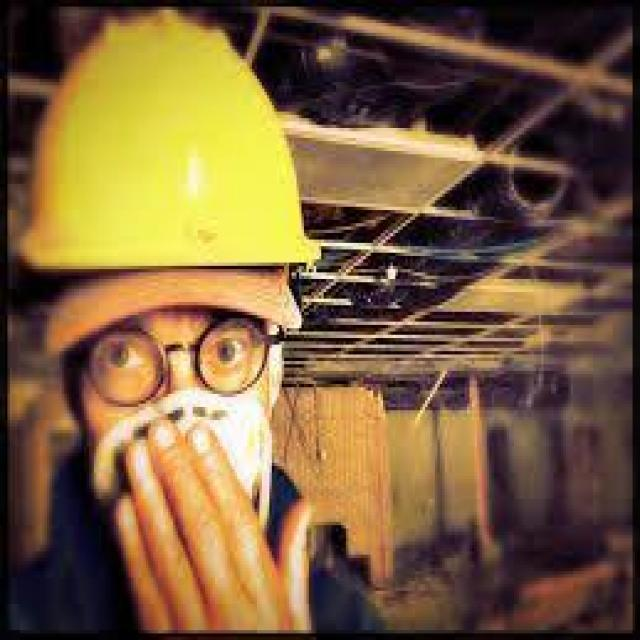hat: (15, 10, 319, 269)
